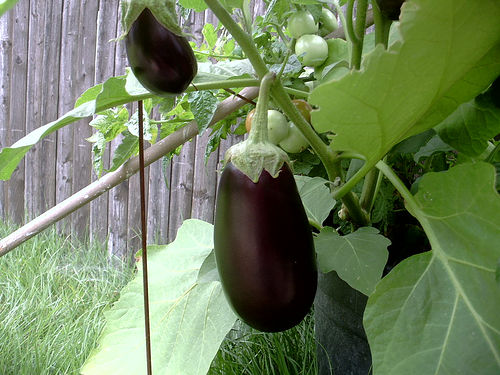eggplant: (208, 121, 324, 338), (114, 4, 211, 103)
